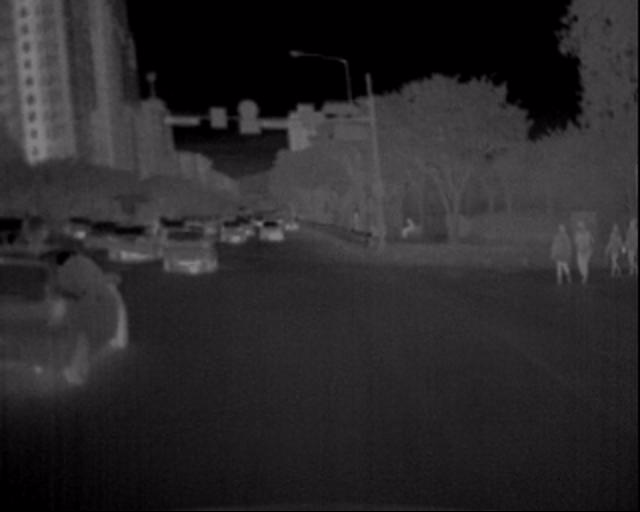person: (562, 216, 594, 285), (544, 214, 575, 285), (600, 223, 627, 278), (620, 216, 640, 277)
